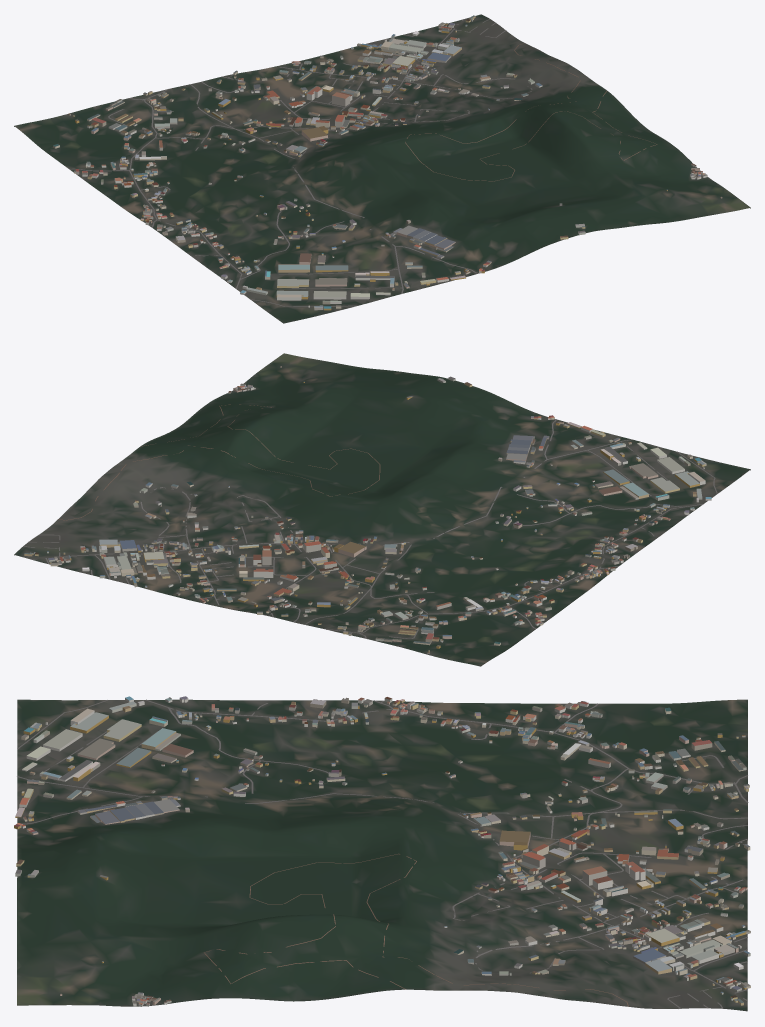
The picture shows the model from 3 angles, top to bottom: view 1: azimuth 30°, elevation 25°; view 2: azimuth 150°, elevation 25°; view 3: azimuth 270°, elevation 25°; orthographic projection. The views are drawn at different scales.
Parts seen in each view (by area): view 1: ground, buildings, roads; view 2: ground, buildings, roads; view 3: ground, buildings, roads.
Part boxes in pixels (x1,y1,x2,y2): ground: (14,14,750,323); buildings: (53,15,722,310); roads: (69,19,657,306); ground: (14,353,750,666); buildings: (24,366,711,653); roads: (23,404,717,638); ground: (17,699,747,1011); buildings: (14,696,750,1006); roads: (17,699,748,1008).
Size of the model in its own units: 1410 by 104 by 1414.
